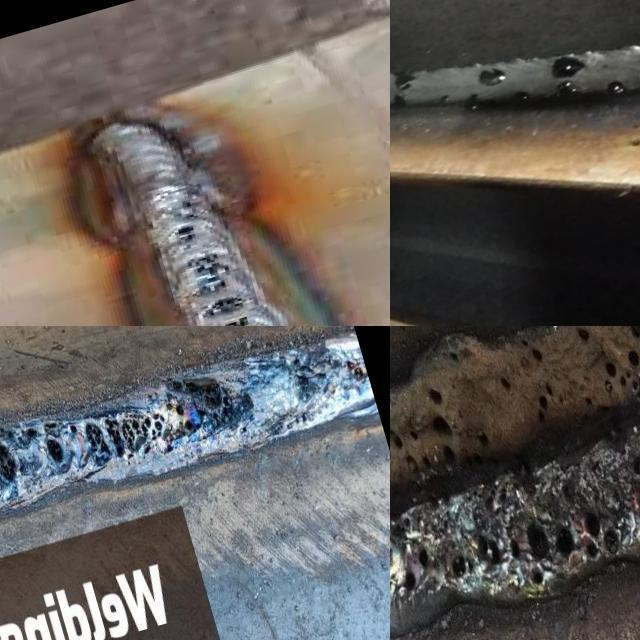defect: (84, 375, 237, 469), (448, 508, 624, 587), (423, 380, 462, 476), (181, 249, 239, 305), (602, 326, 640, 401), (390, 426, 433, 476), (548, 52, 590, 100), (399, 543, 434, 600), (198, 289, 251, 322), (531, 376, 558, 428), (390, 510, 413, 553), (43, 419, 66, 461), (471, 67, 509, 91), (290, 356, 314, 392), (0, 441, 19, 486), (165, 222, 200, 246), (519, 331, 545, 363), (491, 368, 517, 397), (390, 70, 424, 92), (344, 355, 368, 381), (602, 76, 631, 97), (216, 312, 253, 326), (445, 341, 462, 366), (462, 92, 483, 112), (475, 425, 492, 448), (575, 326, 592, 346), (512, 89, 531, 105), (292, 410, 309, 425), (391, 93, 408, 107), (436, 92, 450, 106), (27, 424, 37, 440), (67, 422, 79, 433), (9, 428, 14, 440), (239, 424, 247, 431)
